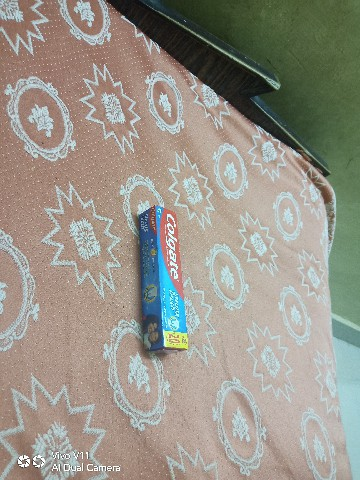colgatetoothpaste small: (129, 196, 200, 367)
